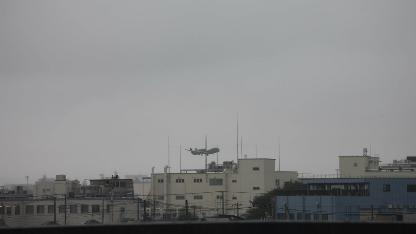P3: (184, 146, 219, 156)
